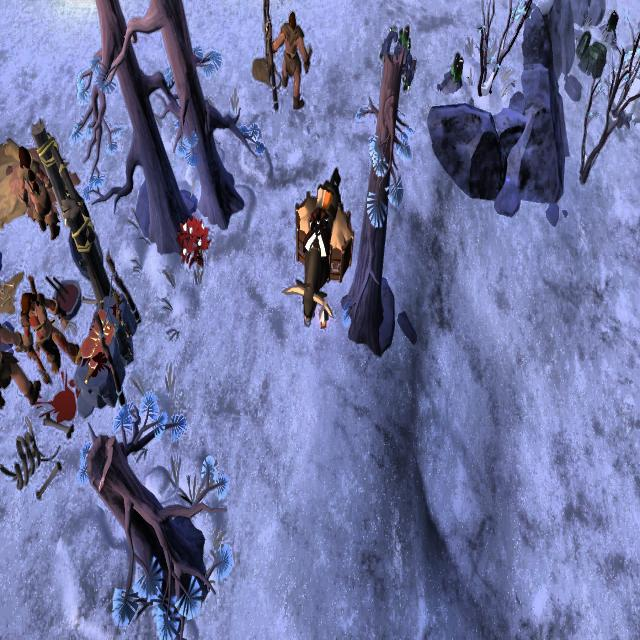enemy_factionKeeper: (274, 9, 315, 112)
fiber_t5: (176, 214, 211, 274)
ore_t3: (450, 48, 465, 84), (607, 11, 620, 38)
rock_t3: (573, 23, 608, 81)
